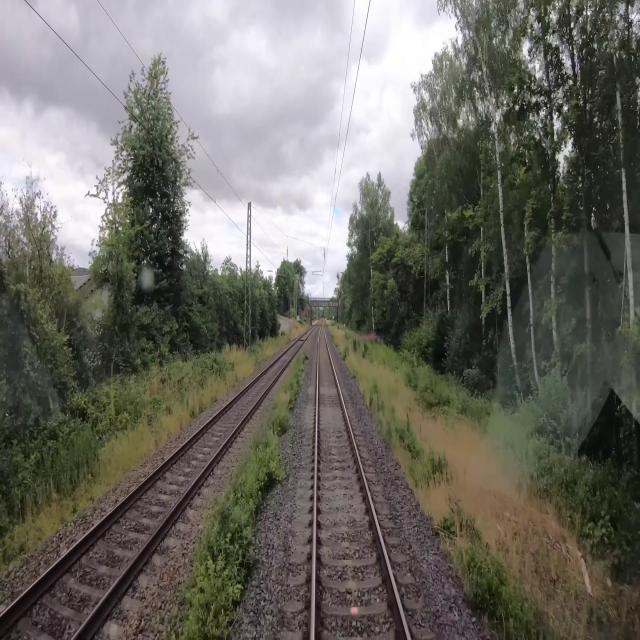Plant: (167, 353, 306, 639)
